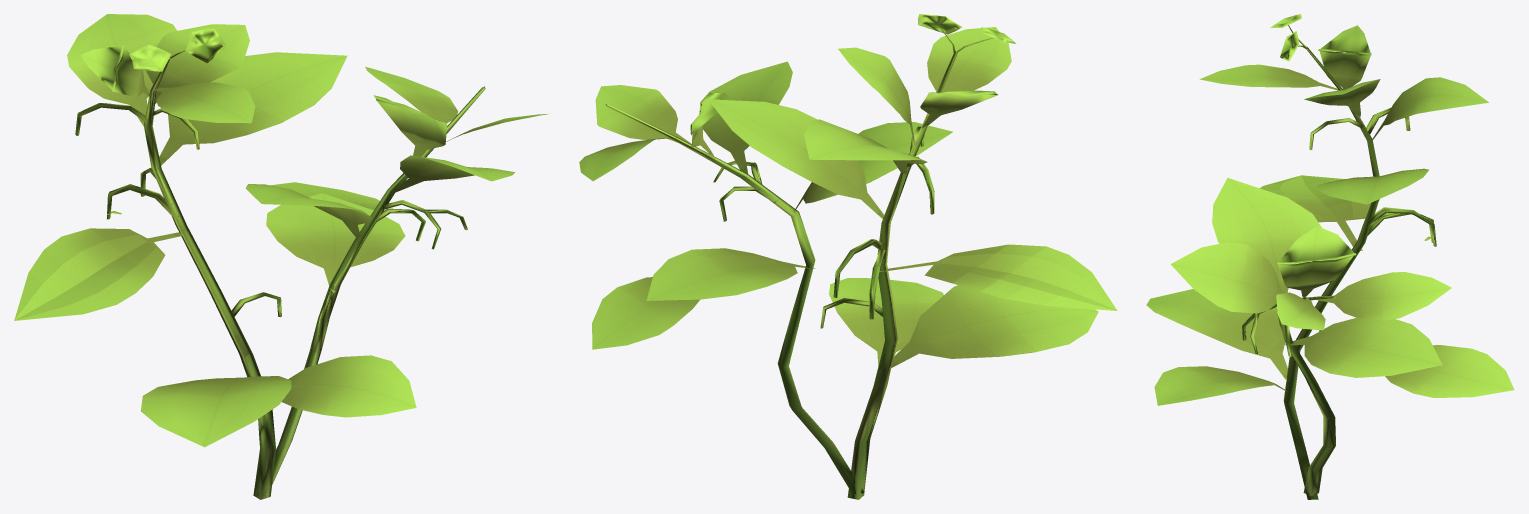
File: tomato_Stage_2.fbx
3 views of the same model, side by side, from view 1: azimuth 30°, elevation 25°; view 2: azimuth 150°, elevation 25°; view 3: azimuth 270°, elevation 25° (orthographic). The views are drawn at different scales.
Visible parts, largest first — view 1: Tomato_Level2; view 2: Tomato_Level2; view 3: Tomato_Level2.
Boxes of the visible parts, x1,y1,x2,y2 form: Tomato_Level2: (14,14,549,499); Tomato_Level2: (579,14,1117,499); Tomato_Level2: (1146,14,1514,499).
Bounding box in the file's own units: 143 × 128 × 98.62.
1 material, 1 textured.
